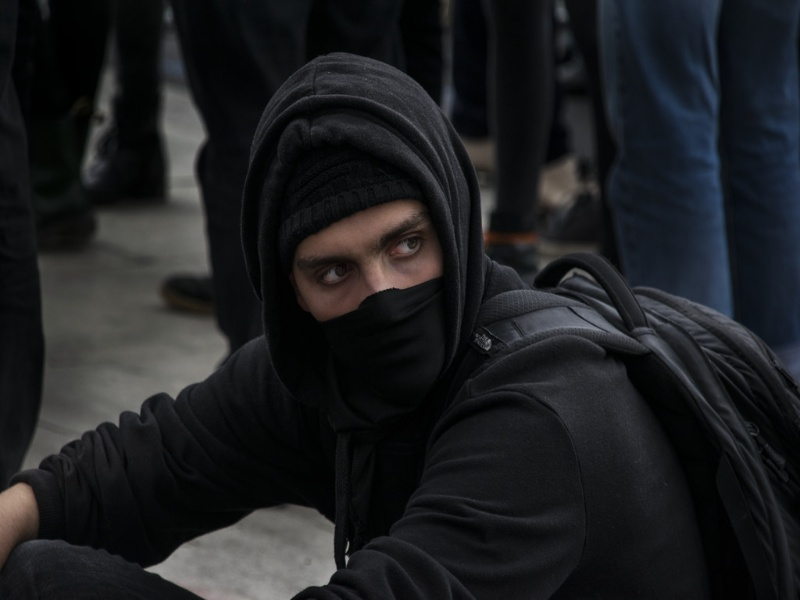balaclava: (240, 52, 485, 421)
person: (4, 52, 800, 597)
